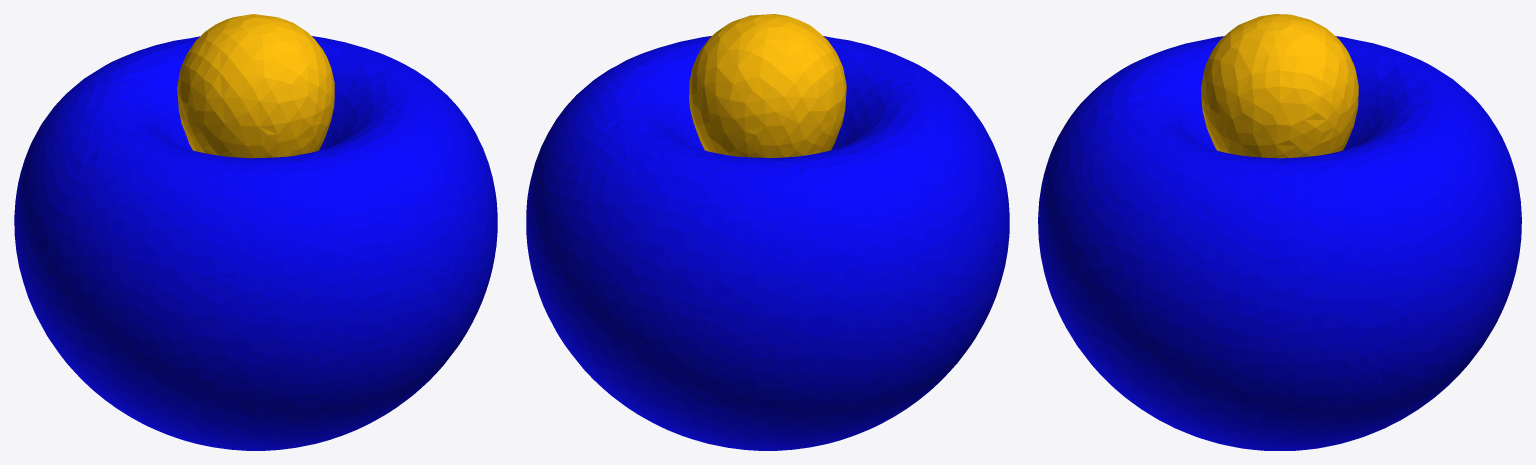
3 renders of one model, left to right at view 1: azimuth 30°, elevation 25°; view 2: azimuth 150°, elevation 25°; view 3: azimuth 270°, elevation 25°, orthographic.
Size of the model in its own units: 11.77 by 10.88 by 11.76.
